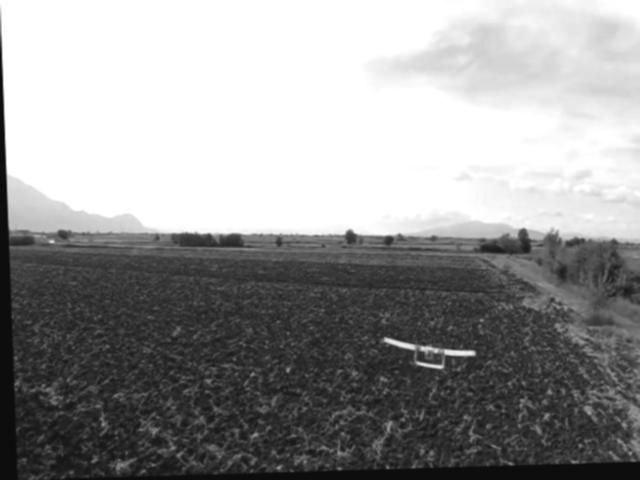hedef: (377, 332, 476, 376)
